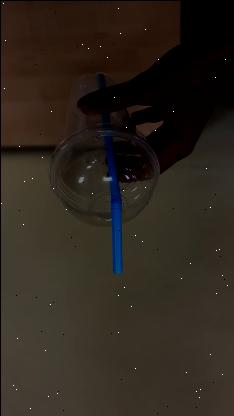Others: (45, 69, 160, 225)
